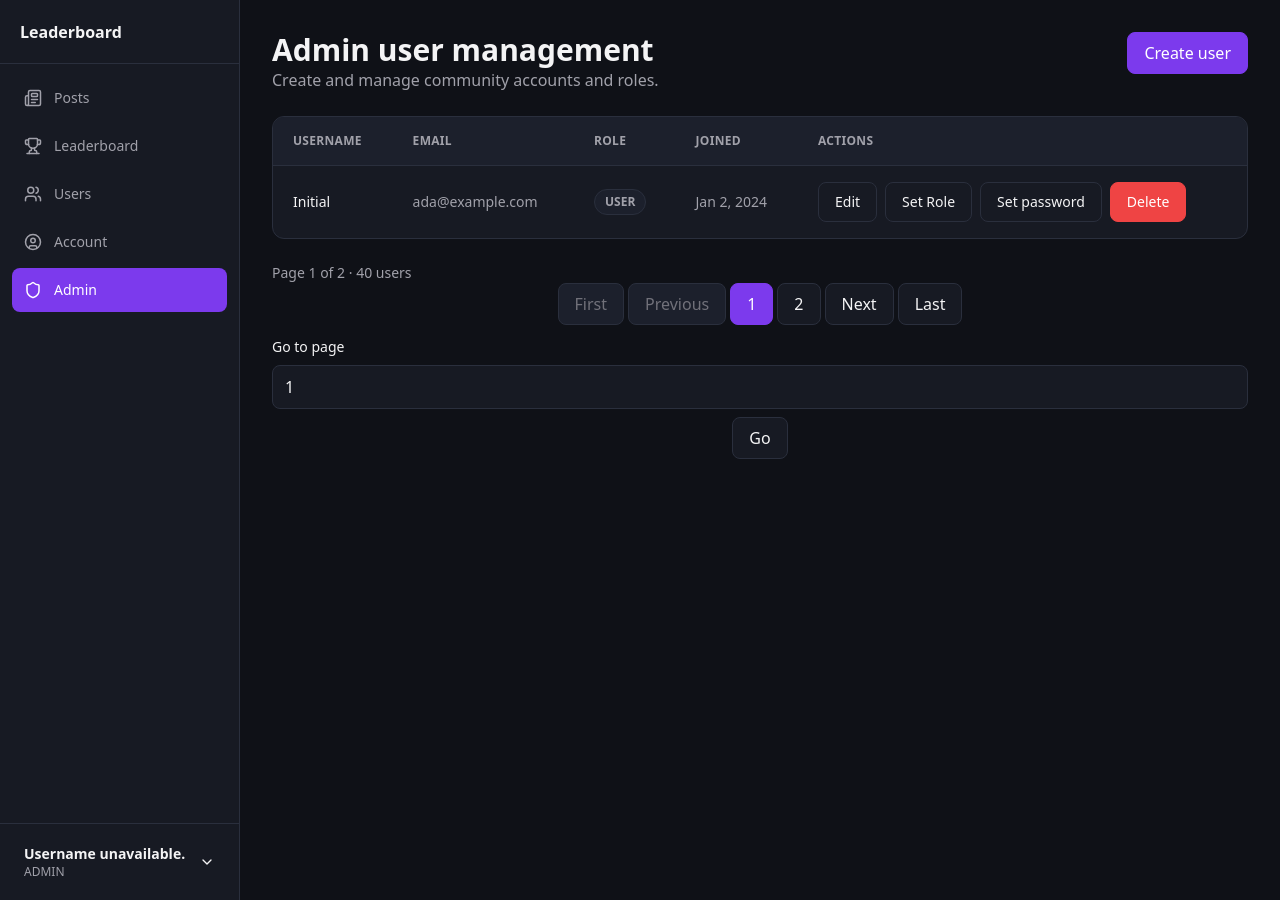
Test case: Phase 11 admin dashboard › moves back to the remaining page after deleting the last user on a page
The image size is (1280, 900).
Expected: the text "Initial" is shown, [273,166,393,238]
Click the button with aria-label "Next page": {"x": 859, "y": 304} [824,283,894,325]
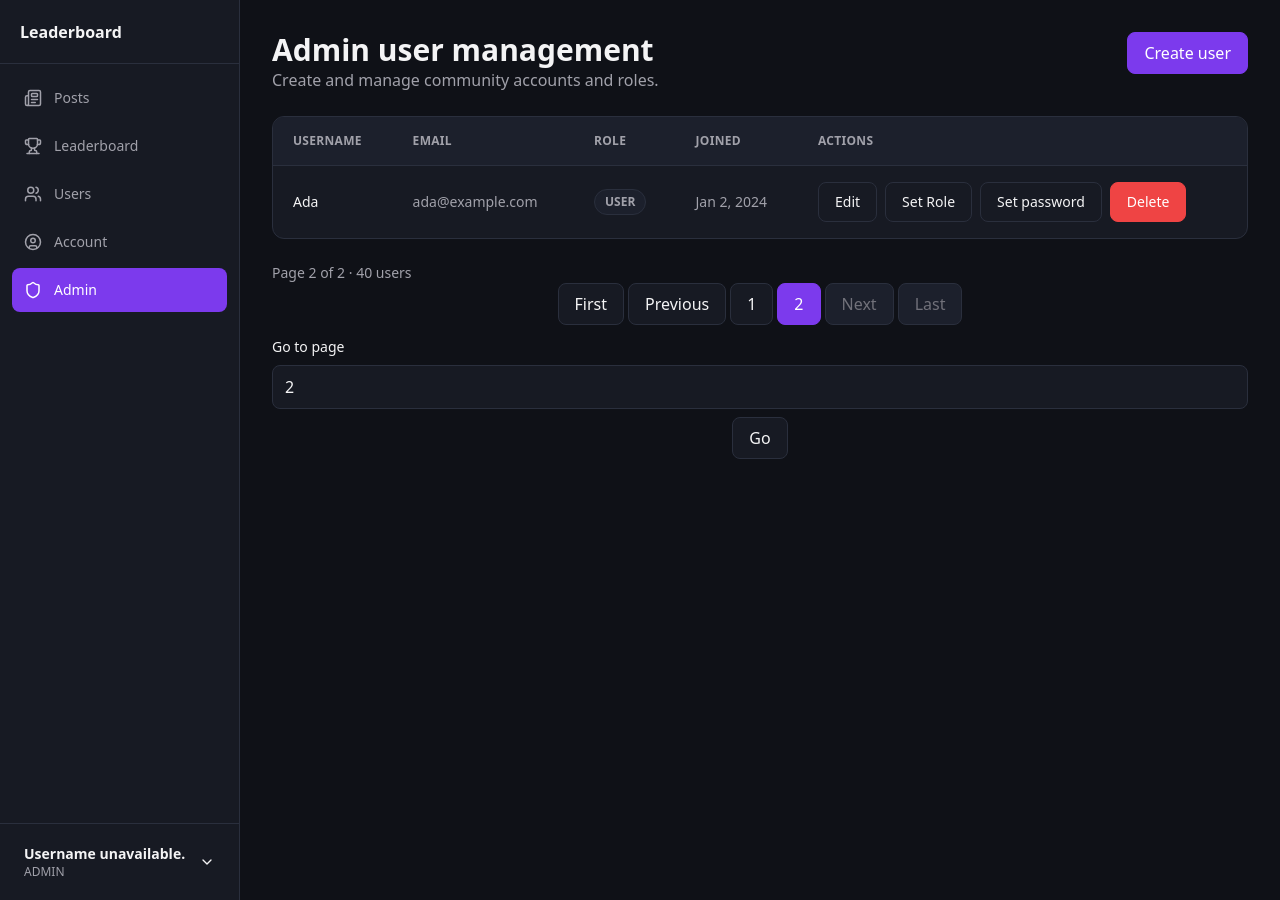
Expected: the text "Ada" is shown, [273,166,393,238]
Click the button with aria-label "Delete Ada": {"x": 1148, "y": 202} [1110,182,1186,222]
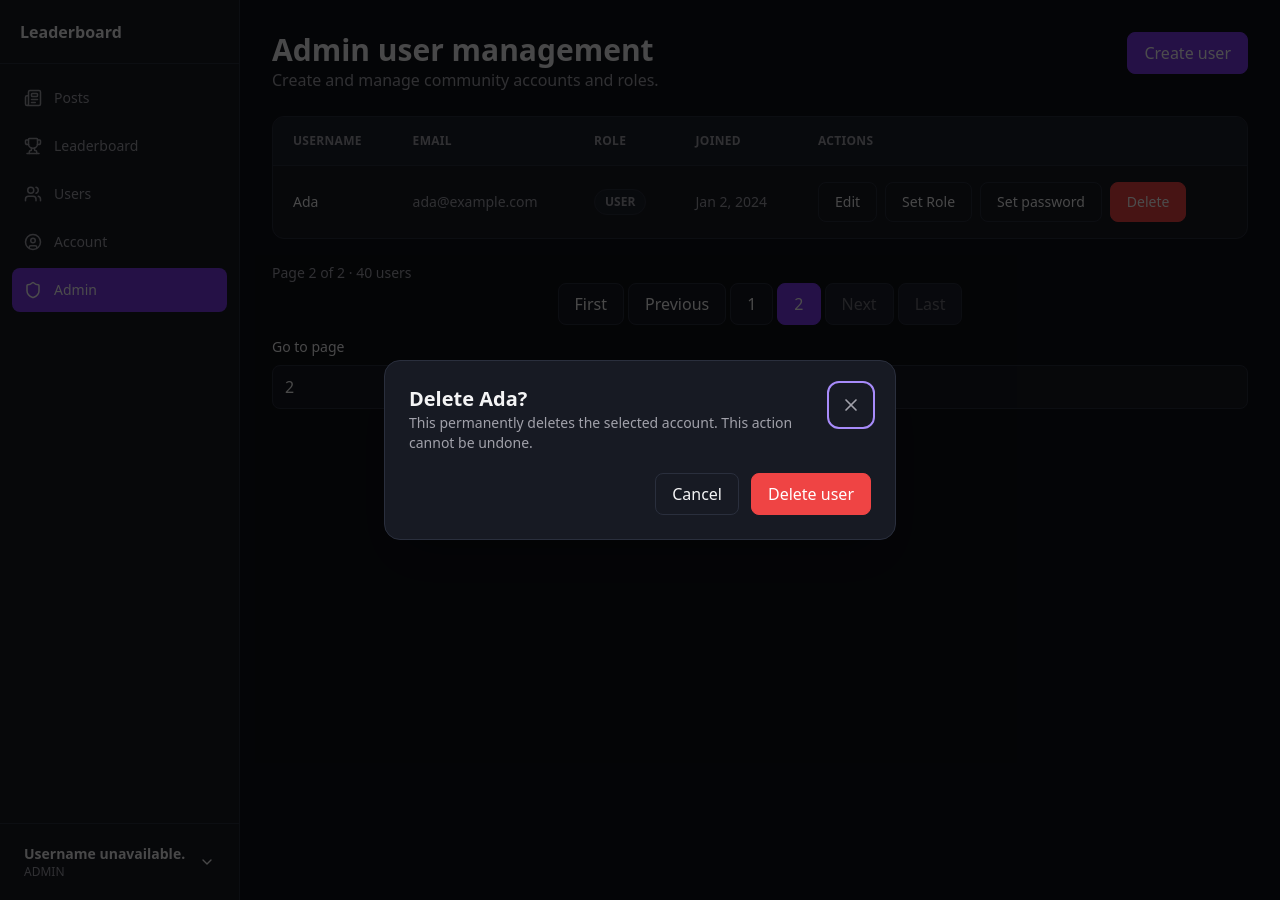
Click the button "Delete user": {"x": 811, "y": 494} [751,473,871,515]
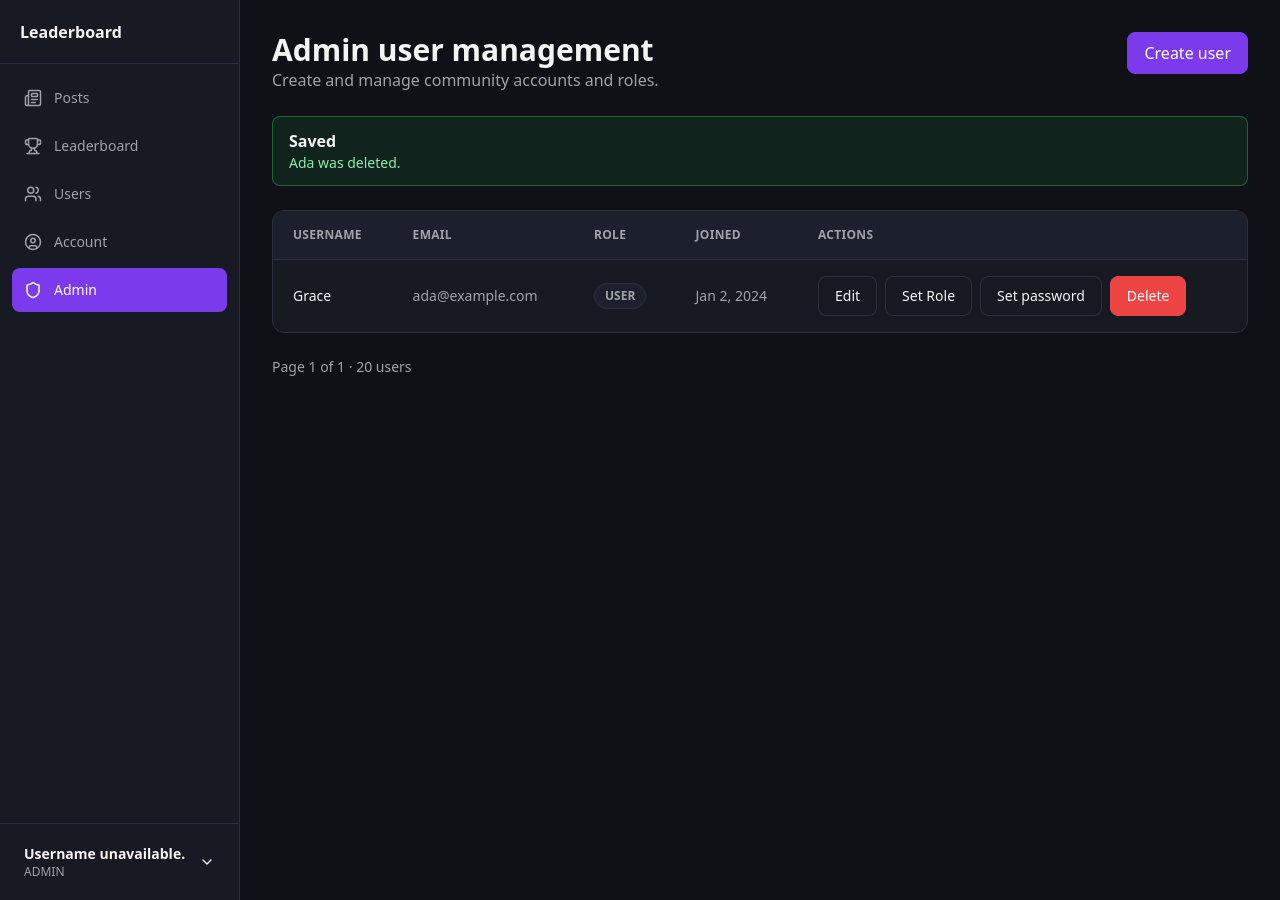
Expected: the text "Grace" is shown, [273,260,393,332]
